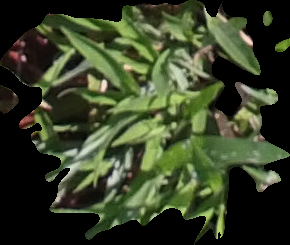grass: (1, 1, 289, 244)
